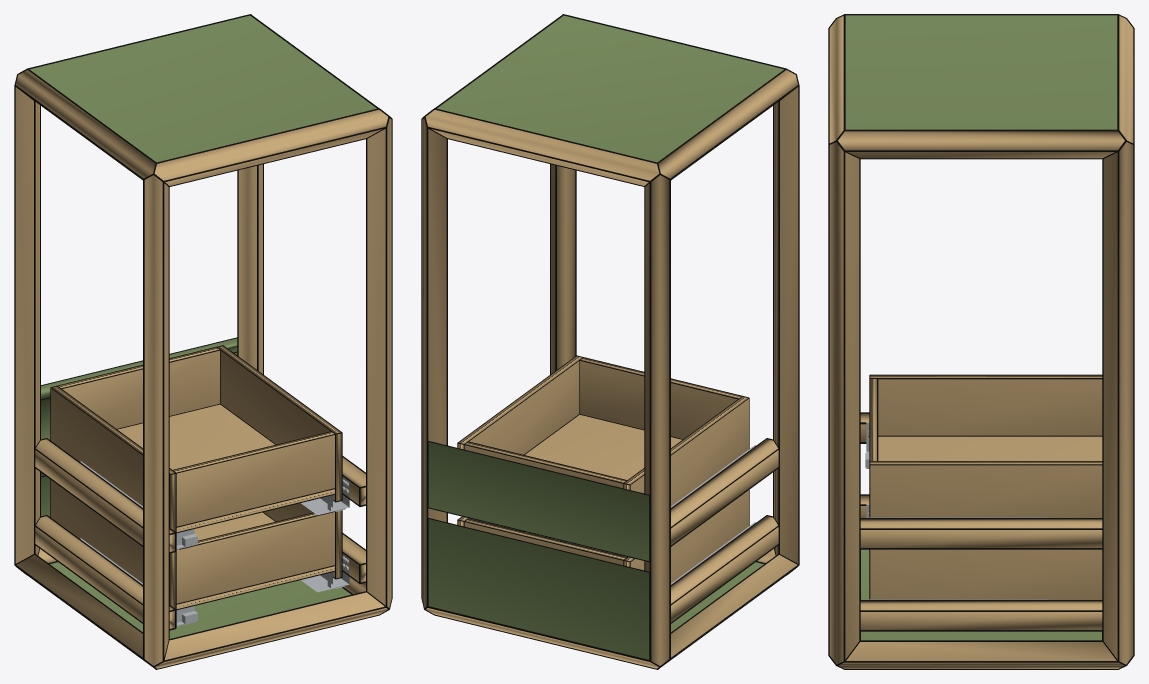
Rendered from 013-servante.glb.
The picture shows the model from 3 angles, left to right: view 1: azimuth 30°, elevation 25°; view 2: azimuth 150°, elevation 25°; view 3: azimuth 270°, elevation 25°; orthographic projection. The views are drawn at different scales.
Parts seen in each view (by area): view 1: panneau-dessus_exterieur, arete-Z0, arete-Z1, arete-Z2, drawer-box-avant-mod-1, drawer-box-avant-mod-0, drawer-box-arriere-mod-1, drawer-box-joue_g-mod-1, drawer-box-joue_d-mod-1, arete-X2, drawer-box-dessous-mod-1, arete-X0 (+31 smaller); view 2: panneau-dessus_exterieur, drawer-box-facade-mod-0, drawer-box-facade-mod-1, arete-Z0, arete-Z2, arete-Z3, drawer-box-avant-mod-1, arete-X3, drawer-box-joue_d-mod-1, drawer-box-dessous-mod-1, drawer-box-joue_g-mod-1, arete-Z1 (+23 smaller); view 3: panneau-dessus_exterieur, arete-Z1, arete-Z3, drawer-box-joue_g-mod-1, drawer-box-joue_d-mod-1, drawer-box-joue_d-mod-0, arete-Y3, arete-Y1, drawer-tr-drawer-traverse-right-mod-0, drawer-tr-drawer-traverse-right-mod-1, drawer-box-dessous-mod-1, arete-wire-Z1 (+14 smaller).
Part boxes in pixels (x1,y1,x2,y2): panneau-dessus_exterieur: (30, 15, 376, 162); arete-Z0: (144, 175, 168, 665); arete-Z1: (367, 118, 391, 607); arete-Z2: (15, 87, 39, 563); drawer-box-avant-mod-1: (173, 432, 334, 526); drawer-box-avant-mod-0: (176, 512, 334, 603); drawer-box-arriere-mod-1: (58, 347, 219, 428); drawer-box-joue_g-mod-1: (51, 386, 175, 531); drawer-box-joue_d-mod-1: (218, 346, 341, 501); arete-X2: (154, 109, 387, 185); drawer-box-dessous-mod-1: (117, 404, 334, 531); arete-X0: (155, 592, 387, 668); panneau-dessus_exterieur: (437, 15, 783, 162); drawer-box-facade-mod-0: (428, 519, 649, 659); drawer-box-facade-mod-1: (428, 442, 649, 560); arete-Z0: (774, 87, 798, 563); arete-Z2: (645, 175, 669, 665); arete-Z3: (422, 118, 446, 607); drawer-box-avant-mod-1: (580, 358, 741, 438); arete-X3: (426, 109, 659, 185); drawer-box-joue_d-mod-1: (458, 356, 581, 454); drawer-box-dessous-mod-1: (525, 415, 682, 479); drawer-box-joue_g-mod-1: (624, 397, 748, 505); arete-Z1: (551, 164, 575, 373); panneau-dessus_exterieur: (845, 15, 1117, 129); arete-Z1: (829, 142, 859, 664); arete-Z3: (1103, 142, 1133, 664); drawer-box-joue_g-mod-1: (870, 375, 1102, 435); drawer-box-joue_d-mod-1: (870, 461, 1102, 517); drawer-box-joue_d-mod-0: (870, 549, 1102, 599); arete-Y3: (838, 131, 1124, 158); arete-Y1: (838, 642, 1124, 668); drawer-tr-drawer-traverse-right-mod-0: (860, 601, 1102, 629); drawer-tr-drawer-traverse-right-mod-1: (860, 519, 1102, 547); drawer-box-dessous-mod-1: (878, 436, 1102, 460); arete-wire-Z1: (828, 140, 860, 661).
Bounding box in the file's own units: 0.4238 × 0.8238 × 0.4238.
